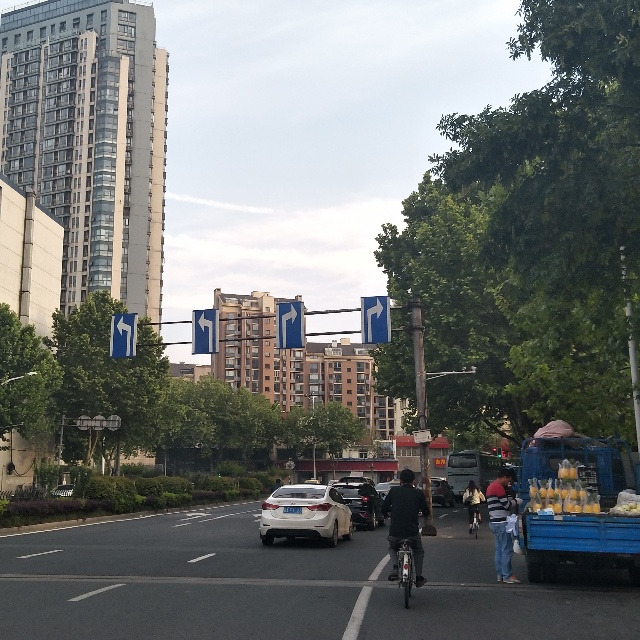left: (110, 315, 138, 357), (193, 311, 217, 356)
right: (360, 293, 387, 344), (280, 304, 305, 350)
